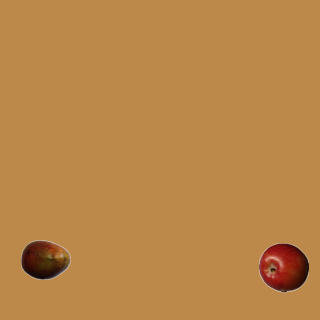Apple Braeburn: (258, 242, 308, 292)
Mango Red: (20, 234, 70, 284)
